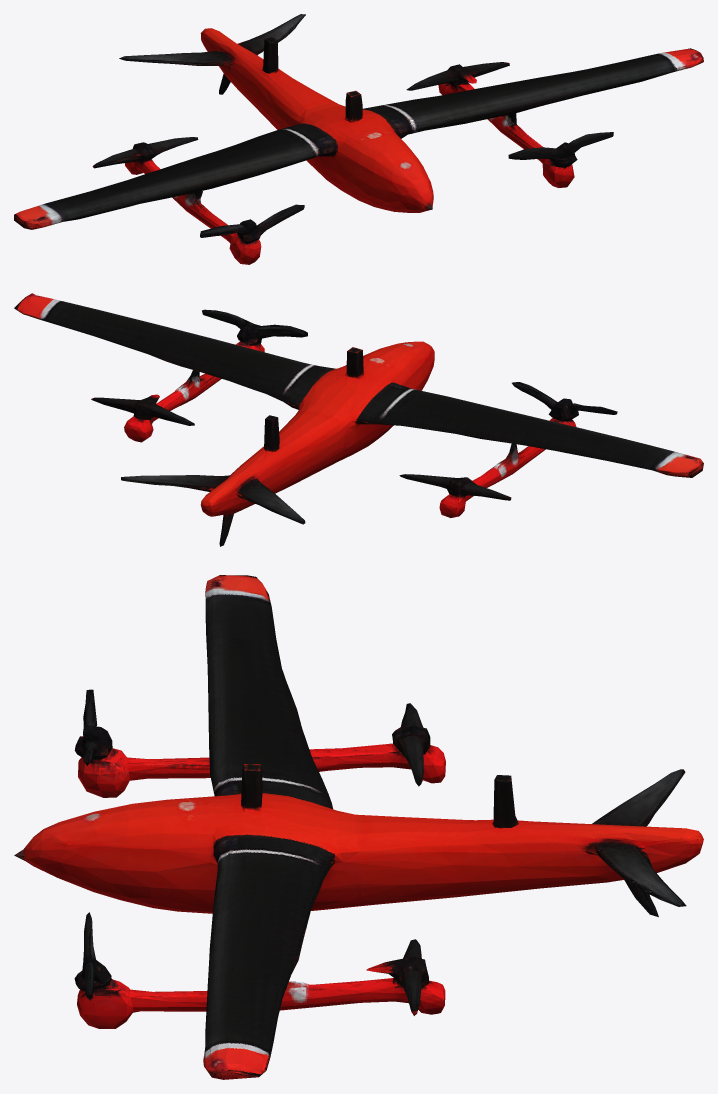
File: griflion-m8.glb
The picture shows the model from 3 angles, top to bottom: view 1: azimuth 30°, elevation 25°; view 2: azimuth 150°, elevation 25°; view 3: azimuth 270°, elevation 25°; orthographic projection. The views are drawn at different scales.
Parts seen in each view (by area): view 1: world; view 2: world; view 3: world.
Boxes of the visible parts, bbox=[...] form: world: bbox=[14, 14, 703, 264]; world: bbox=[14, 293, 703, 546]; world: bbox=[14, 575, 703, 1079].
Bounding box in the file's own units: 0.9981 × 0.1391 × 0.5808.
1 material, 1 textured.
